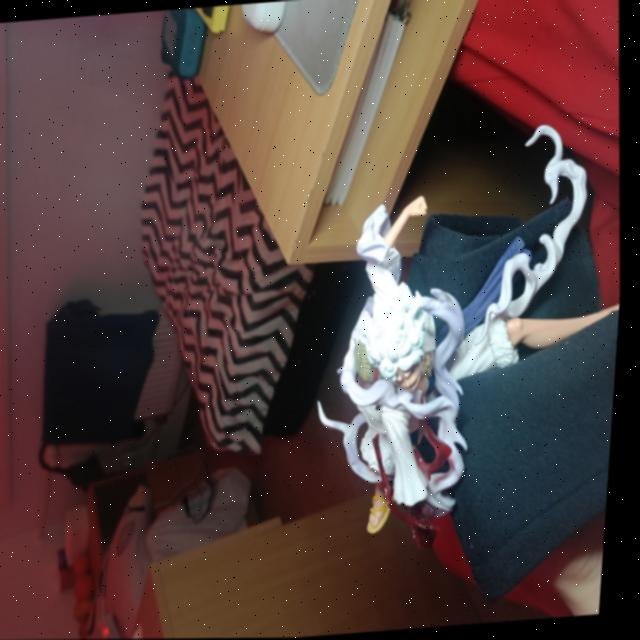luffy: (295, 114, 634, 536)
